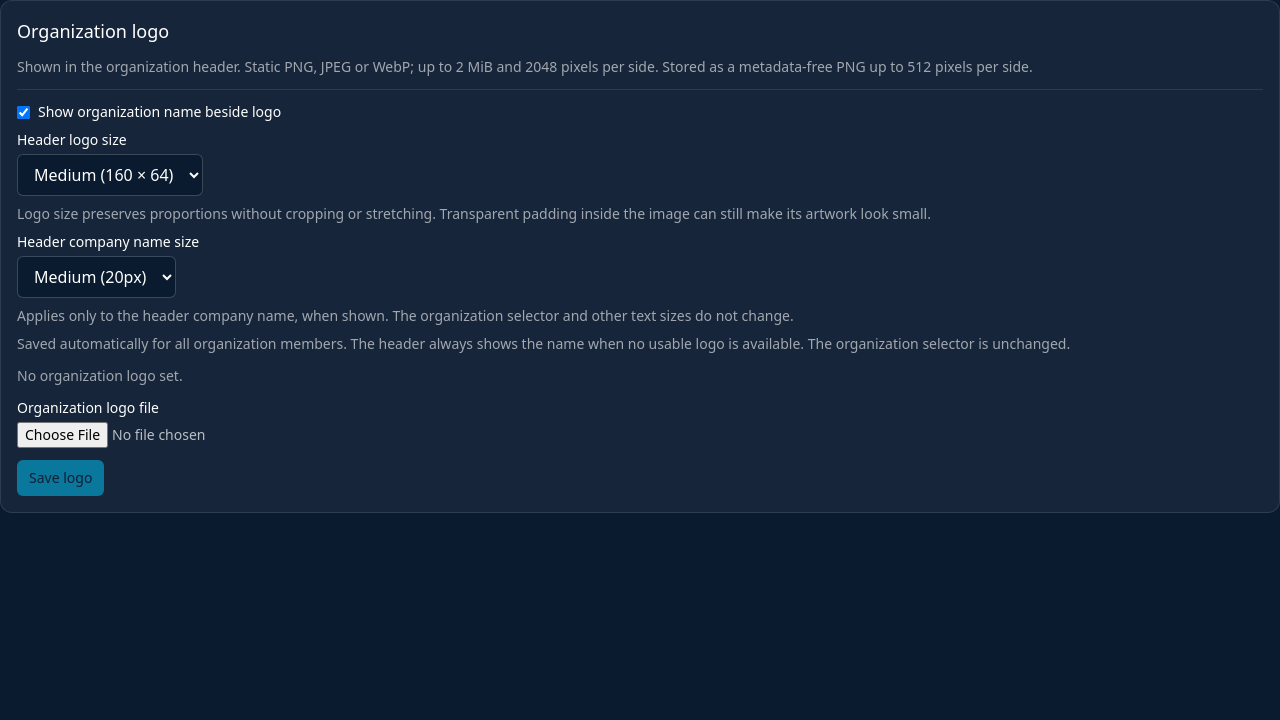
Scenario: blocks stale preference retries until explicitly reloaded
Click the checkbox labelled "Show organization name beside logo". click: (24, 112)
box: [17,106,30,118]
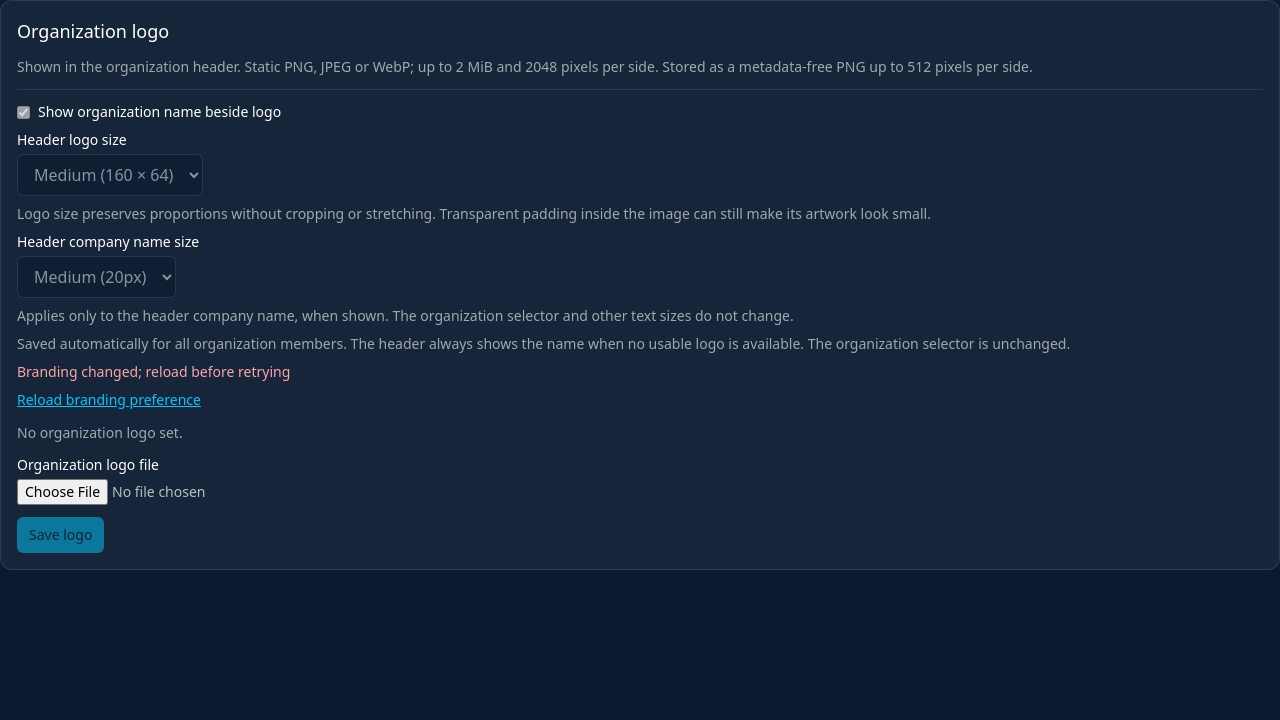
Expected: the text "Branding changed; reload before retrying" is shown, [17,362,290,381]
Expected: the checkbox labelled "Show organization name beside logo" is disabled, [17,106,30,118]
Click the button "Reload branding preference". click: (109, 400)
box: [17,390,201,410]
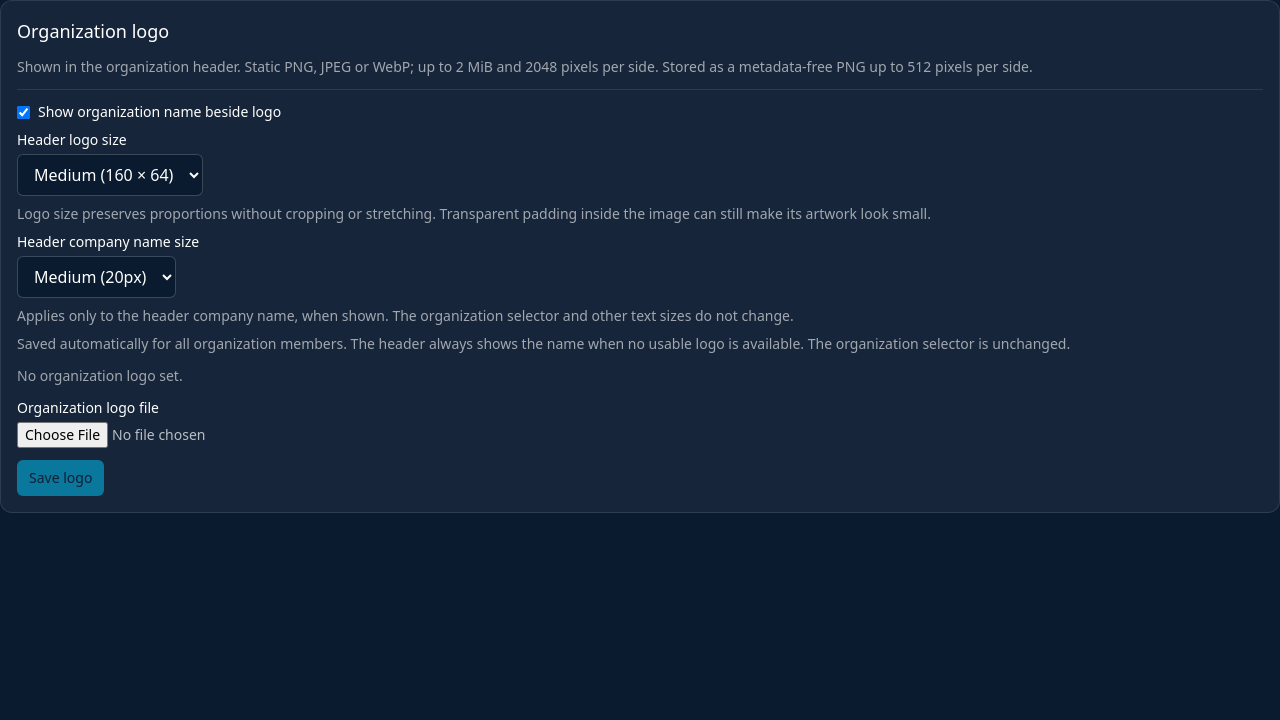
Expected: the checkbox labelled "Show organization name beside logo" is enabled, [17,106,30,118]
